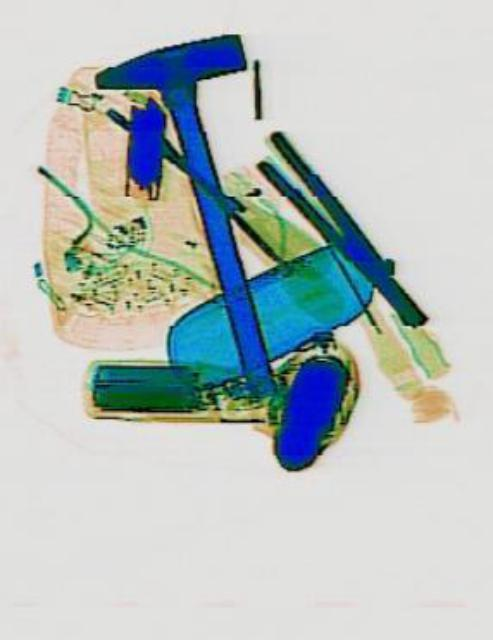Pliers: (249, 126, 432, 338)
